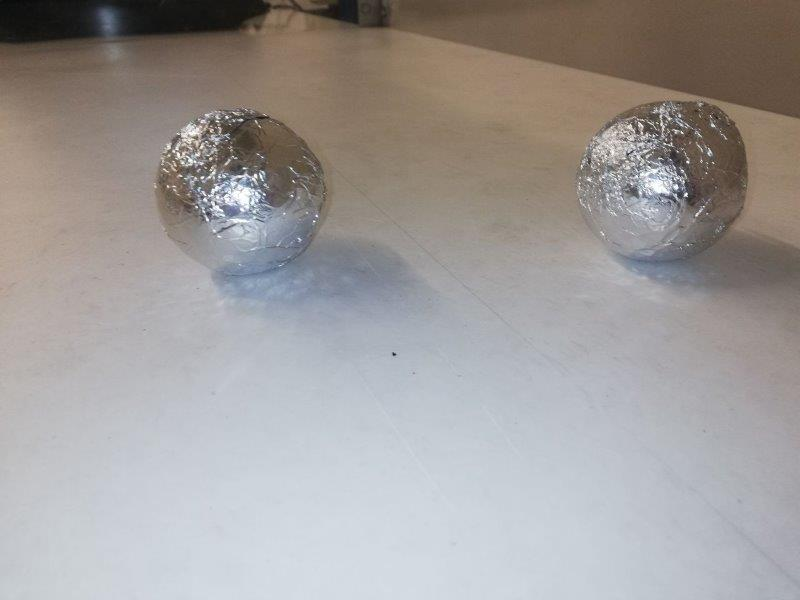bianca: (150, 105, 327, 276), (576, 95, 751, 266)
